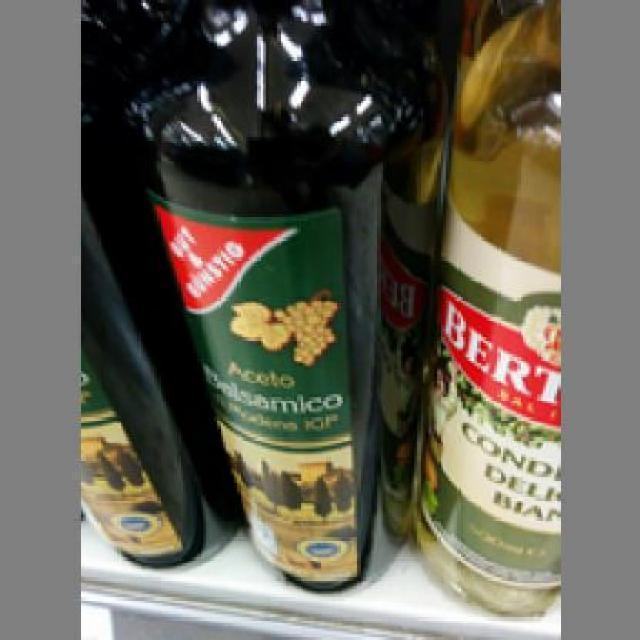Vinegar: (136, 69, 390, 588), (414, 6, 566, 612)
